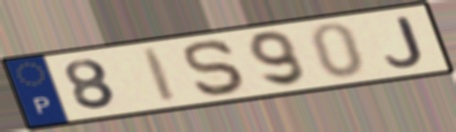0: (308, 21, 372, 81)
8: (63, 58, 119, 111)
9: (244, 29, 311, 89)
I: (138, 44, 181, 105)
J: (382, 14, 427, 68)
S: (181, 37, 250, 98)
